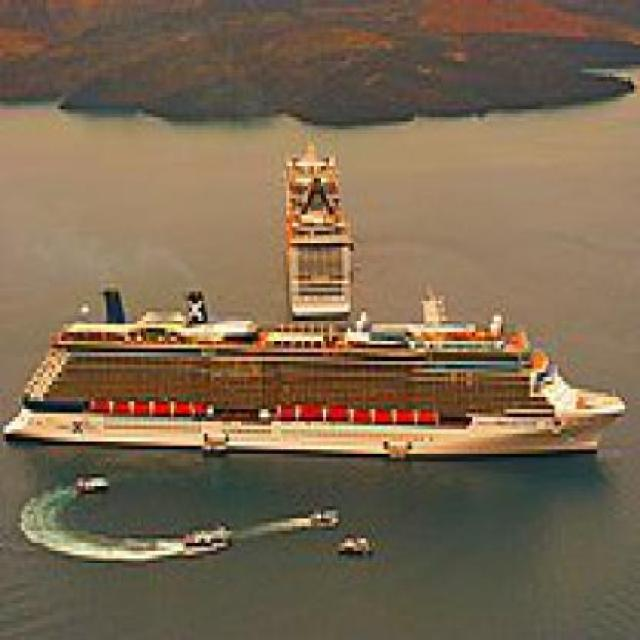cruise: (4, 289, 638, 491)
